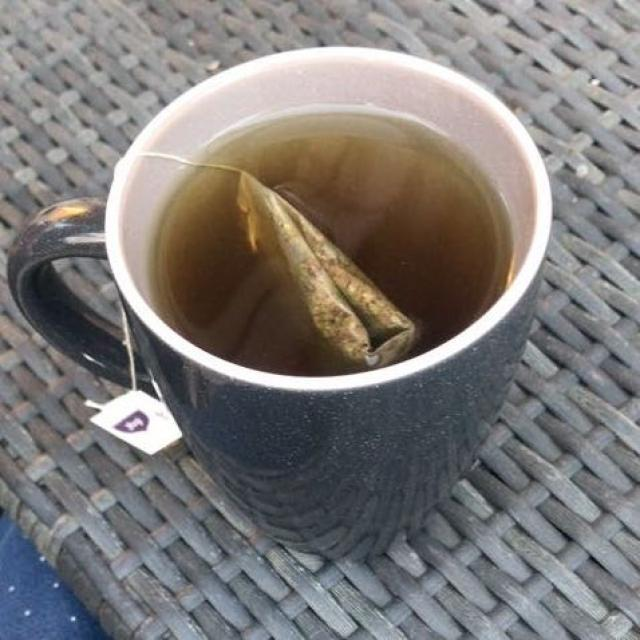tea: (156, 121, 505, 369)
